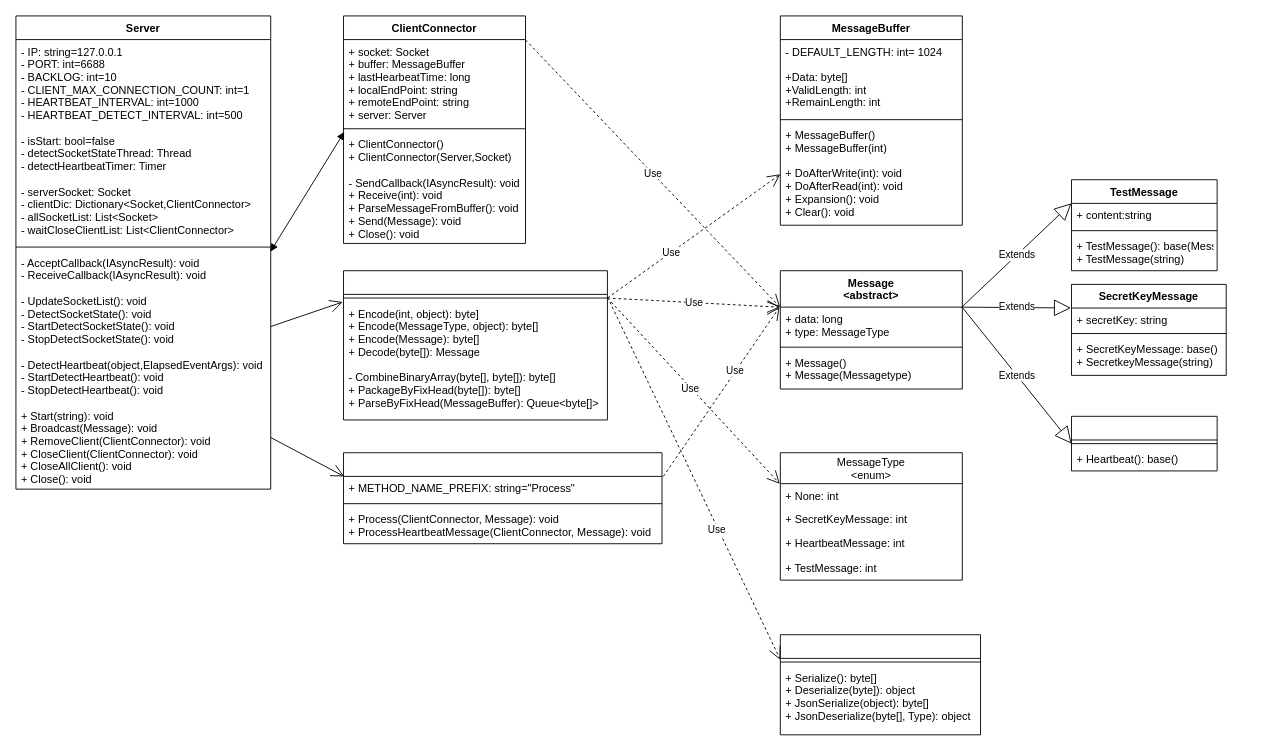
Some shapes in this 1278 by 753 pixel diagram are drawn without their labels. The box of each missing label's shape, as (x1, y1, x2, y2) in pixels:
HeartbeatMessage: (1071, 415, 1217, 471)
MessageHandler: (343, 452, 662, 544)
MessageWrapper: (343, 270, 607, 420)
Serializer: (779, 634, 981, 735)
